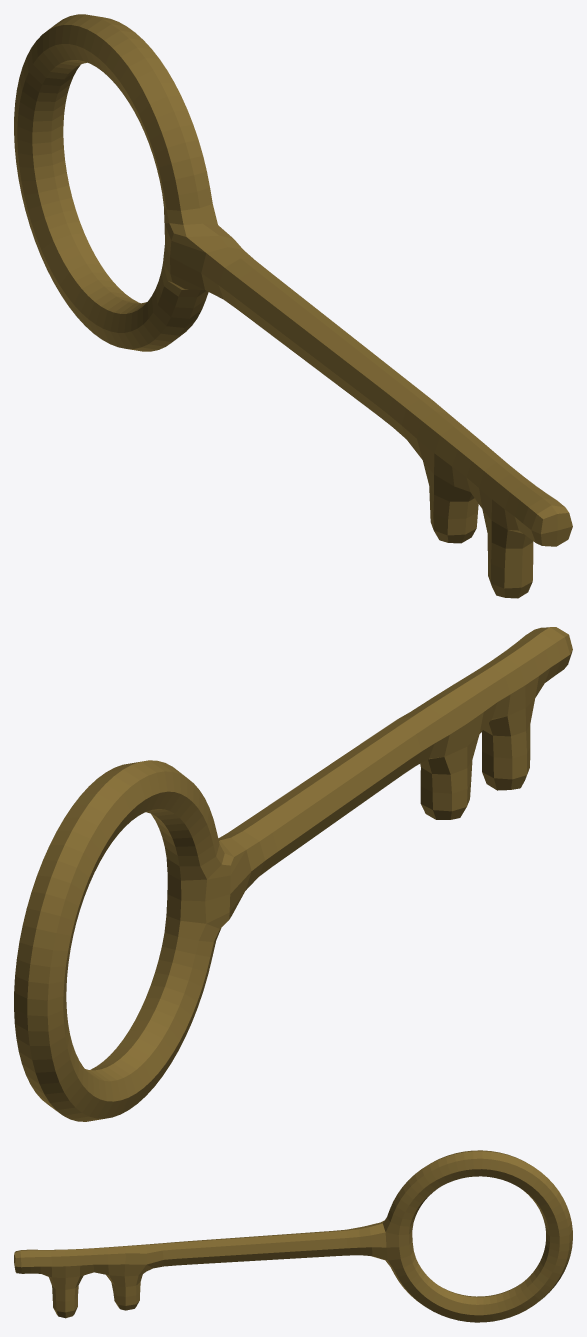
The model's file is key1.fbx.
3 renders of one model, top to bottom at view 1: azimuth 30°, elevation 25°; view 2: azimuth 150°, elevation 25°; view 3: azimuth 270°, elevation 25°, orthographic. The views are drawn at different scales.
Visible parts, largest first — view 1: Cube; view 2: Cube; view 3: Cube.
Boxes of the visible parts, x1,y1,x2,y2 form: Cube: [14, 14, 572, 598]; Cube: [14, 627, 572, 1121]; Cube: [14, 1150, 572, 1322].
Bounding box in the file's own units: 364 × 1770 × 5260.
